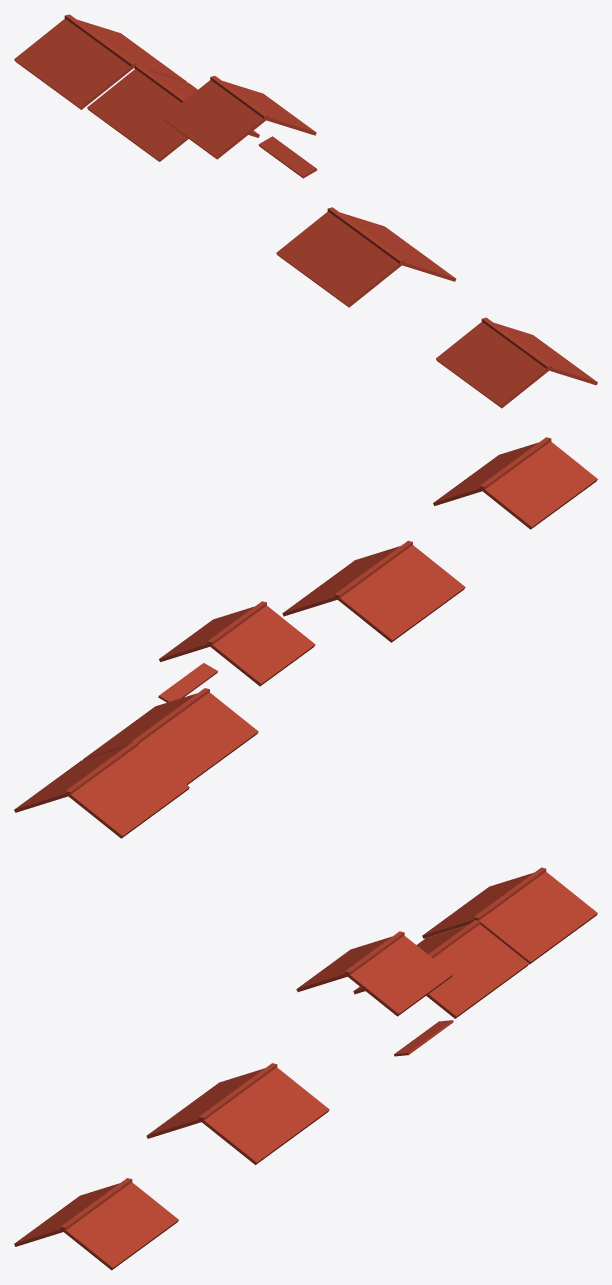
File: HouseRoofsE_RoofRed.fbx
3 views of the same model, one above another, from view 1: azimuth 30°, elevation 25°; view 2: azimuth 150°, elevation 25°; view 3: azimuth 330°, elevation 25° (orthographic).
Parts seen in each view (by area): view 1: RoofE1_-1.001; view 2: RoofE1_-1.001; view 3: RoofE1_-1.001.
Part boxes in pixels (<box>): RoofE1_-1.001: <box>14,14,597,408</box>; RoofE1_-1.001: <box>14,437,597,838</box>; RoofE1_-1.001: <box>14,867,597,1270</box>.
Bounding box in the file's own units: 2307 × 1481 × 16756.
